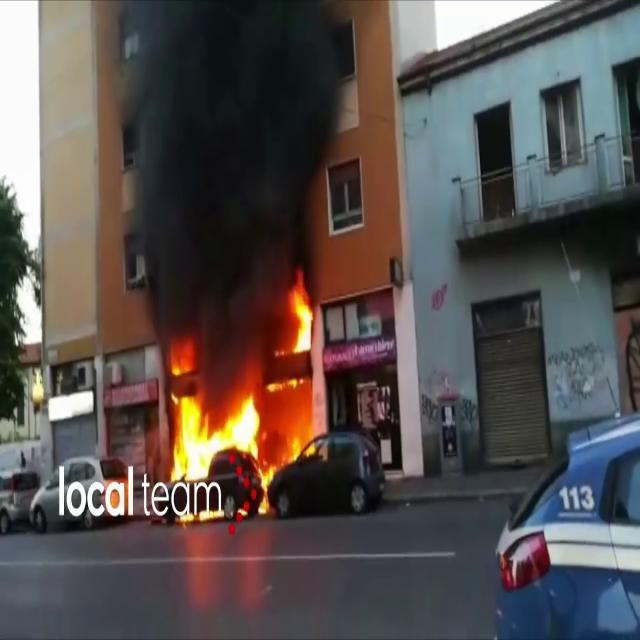Fire: (163, 362, 274, 507), (282, 270, 318, 358), (284, 423, 324, 466)
Smoke: (121, 1, 347, 335)
